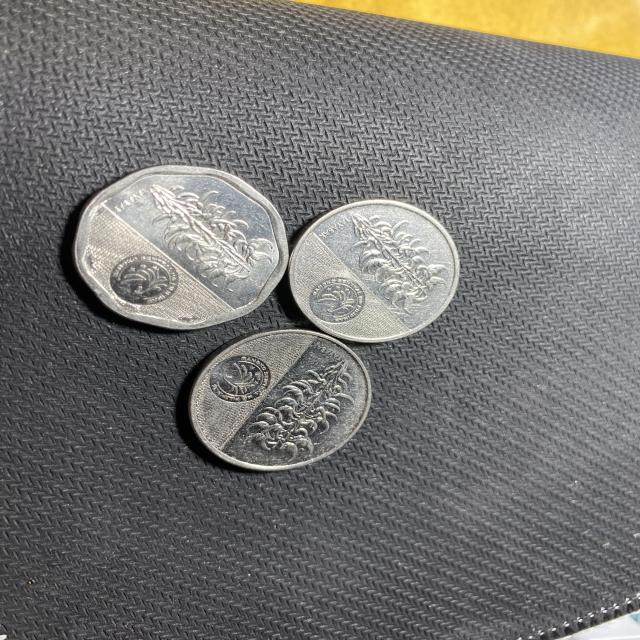5_New_Back: (132, 183, 278, 288), (252, 342, 354, 461), (359, 212, 446, 310)
